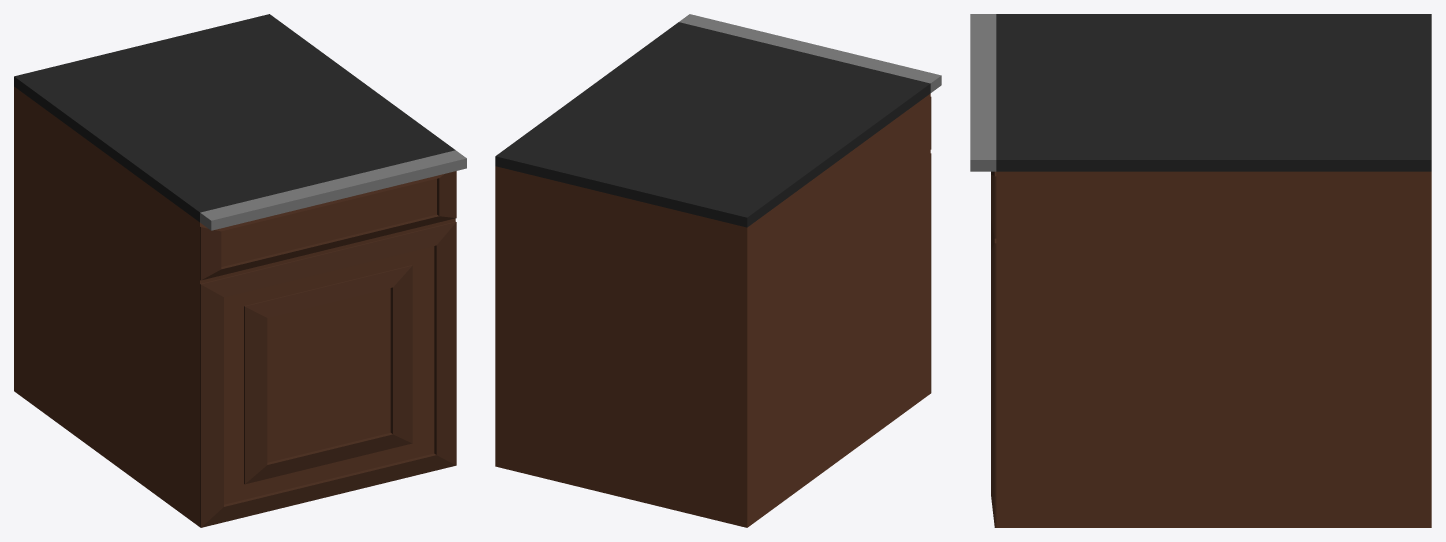
Rendered from Counter01.fbx.
The picture shows the model from 3 angles, left to right: view 1: azimuth 30°, elevation 25°; view 2: azimuth 150°, elevation 25°; view 3: azimuth 270°, elevation 25°; orthographic projection. The views are drawn at different scales.
Parts seen in each view (by area): view 1: Counter; view 2: Counter; view 3: Counter.
Part boxes in pixels (bbox=[...]): Counter: bbox=[14, 14, 466, 527]; Counter: bbox=[495, 14, 941, 527]; Counter: bbox=[970, 14, 1431, 527].
Bounding box in the file's own units: 195 × 229 × 260.
